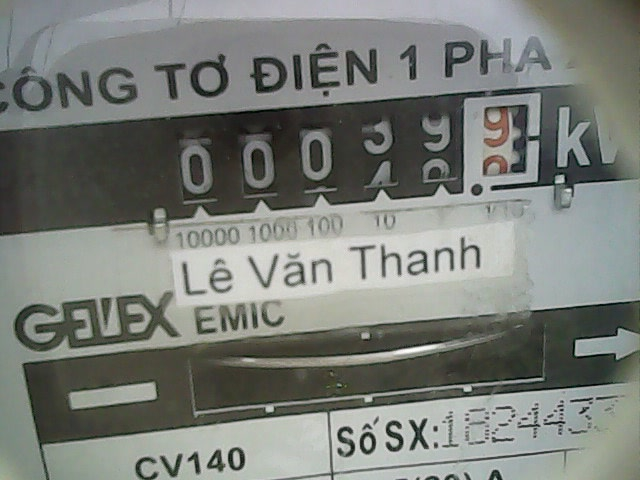phy_plate: (160, 86, 547, 217)
